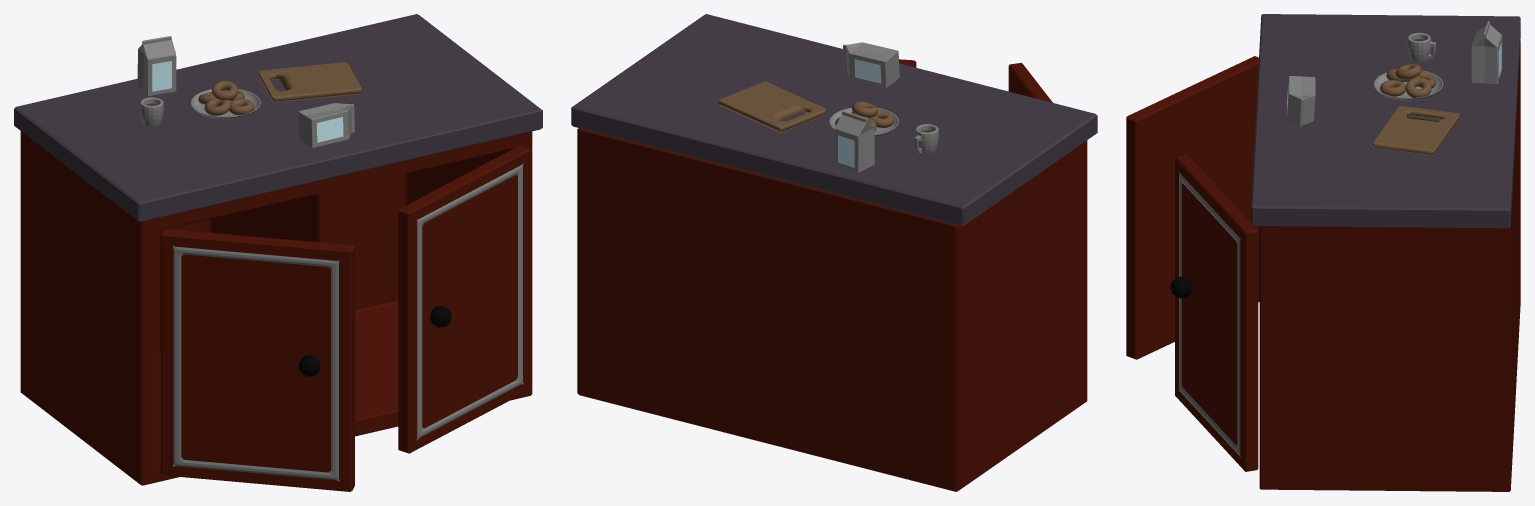
The model's file is MuebleSM_01.fbx.
The picture shows the model from 3 angles, left to right: view 1: azimuth 30°, elevation 25°; view 2: azimuth 150°, elevation 25°; view 3: azimuth 270°, elevation 25°; orthographic projection.
Parts seen in each view (by area): view 1: Counter; view 2: Counter; view 3: Counter.
Boxes of the visible parts, box(x1,y1,x2,y2) form: Counter: box(14, 14, 542, 491); Counter: box(571, 14, 1097, 491); Counter: box(1126, 14, 1520, 491).
Bounding box in the file's own units: 460 × 367 × 390.
